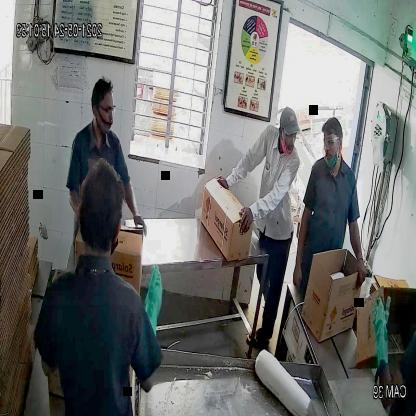goggles: (321, 132, 345, 152), (93, 101, 117, 118)
no_goggles: (282, 129, 300, 143)
